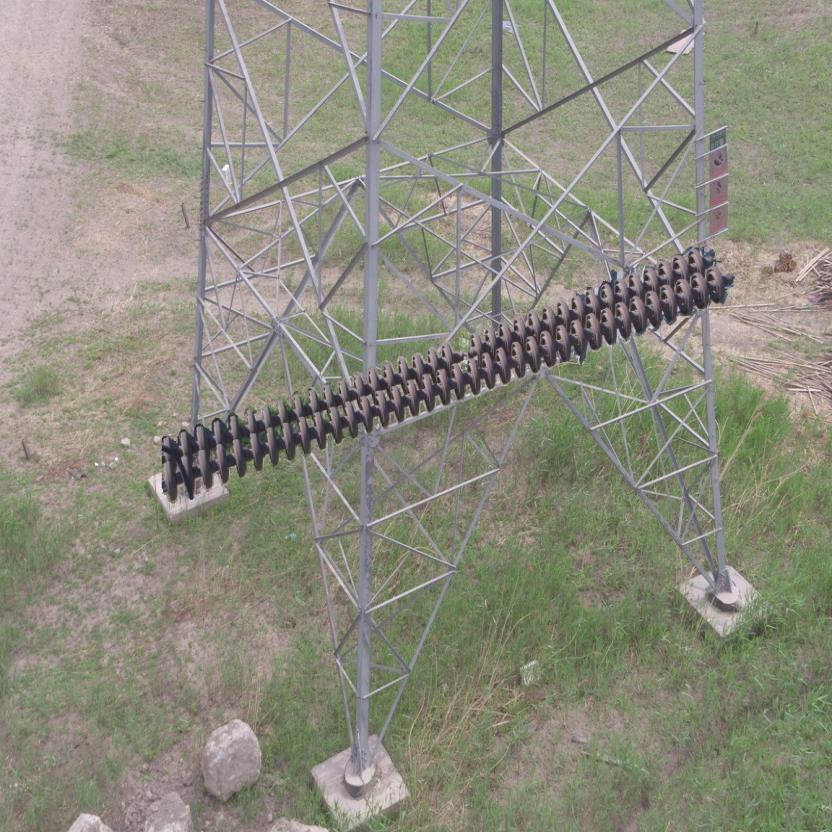defect: (439, 331, 484, 371)
